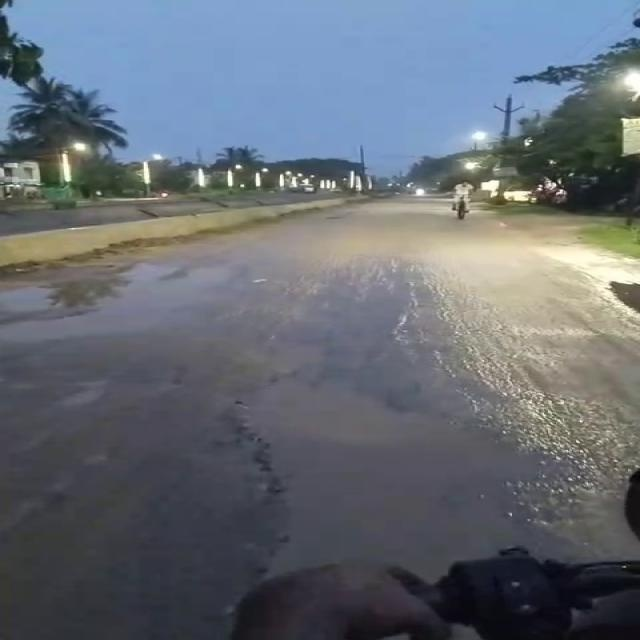pothole: (235, 376, 521, 578), (0, 259, 240, 356), (0, 284, 60, 314)
